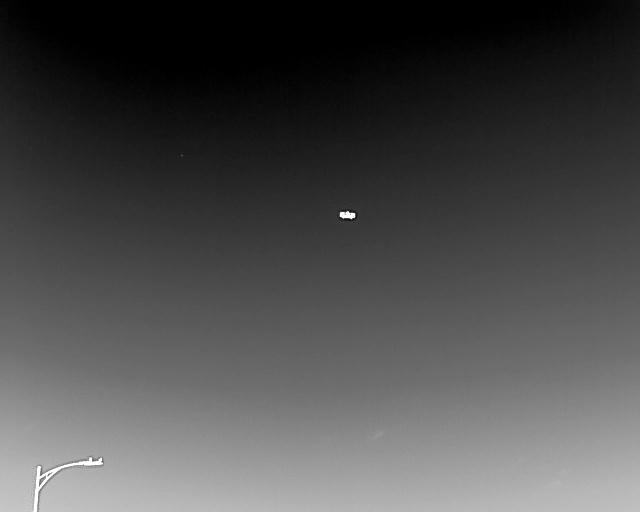fpv-drone: (338, 210, 356, 221)
